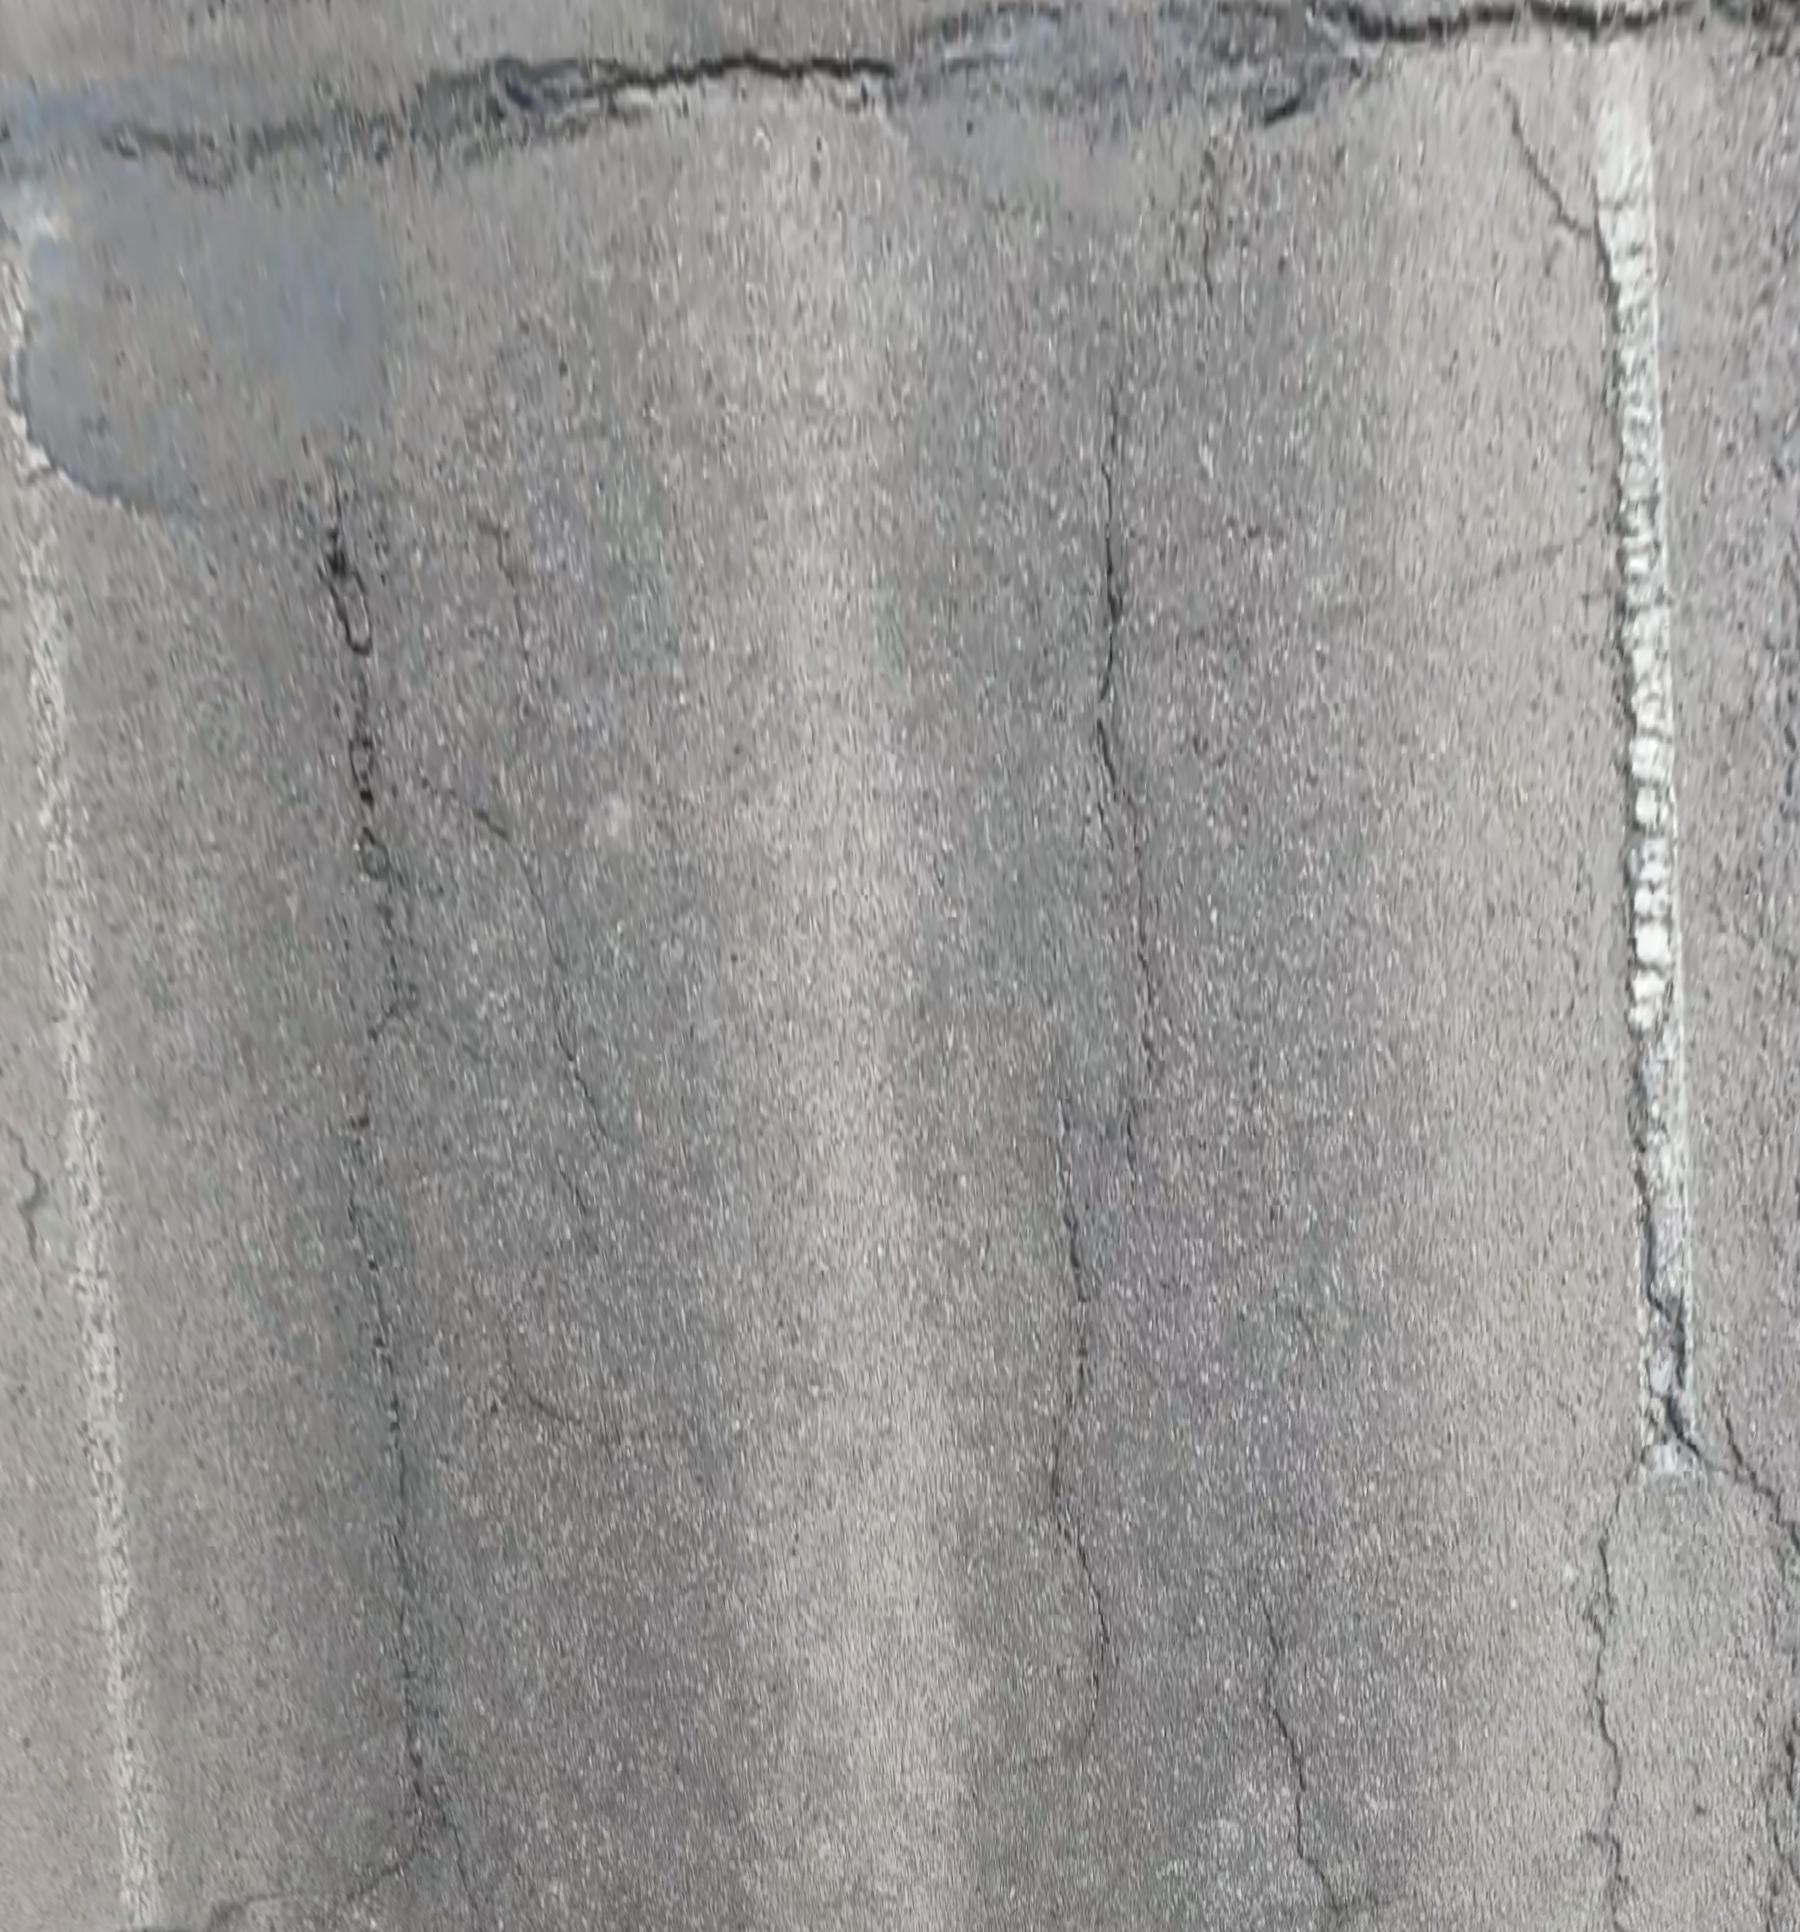pothole_patch_good: (10, 183, 392, 523)
